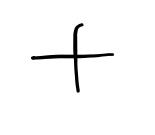mult: (29, 24, 115, 93)
